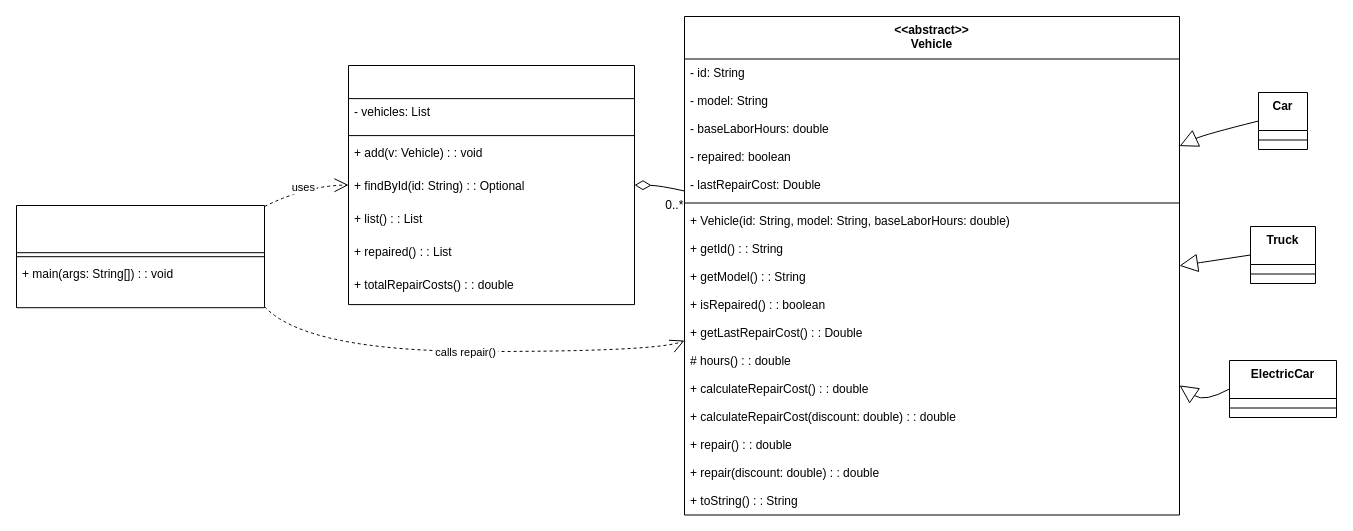
Some shapes in this 1353 by 531 pixel diagram are drawn without their labels. Each missing label, with the box of its shape:
App: (16, 204, 264, 308)
Garage: (348, 64, 634, 305)
